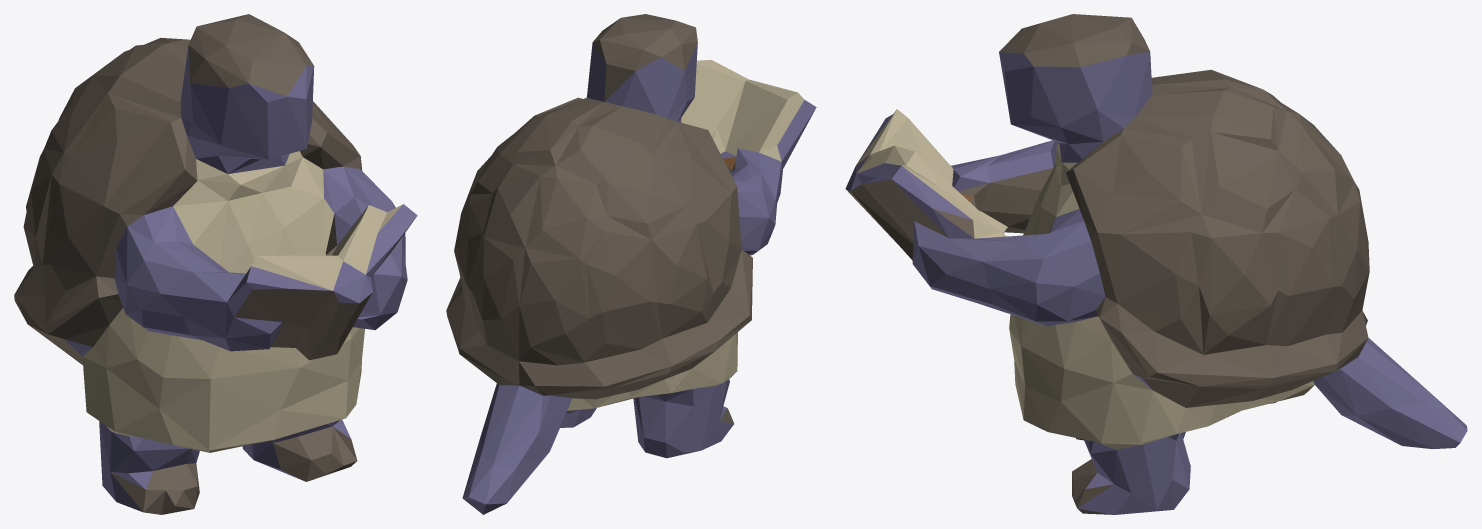
3 renders of one model, left to right at view 1: azimuth 30°, elevation 25°; view 2: azimuth 150°, elevation 25°; view 3: azimuth 270°, elevation 25°, orthographic. The views are drawn at different scales.
Size of the model in its own units: 0.6044 by 0.8023 by 1.03.
